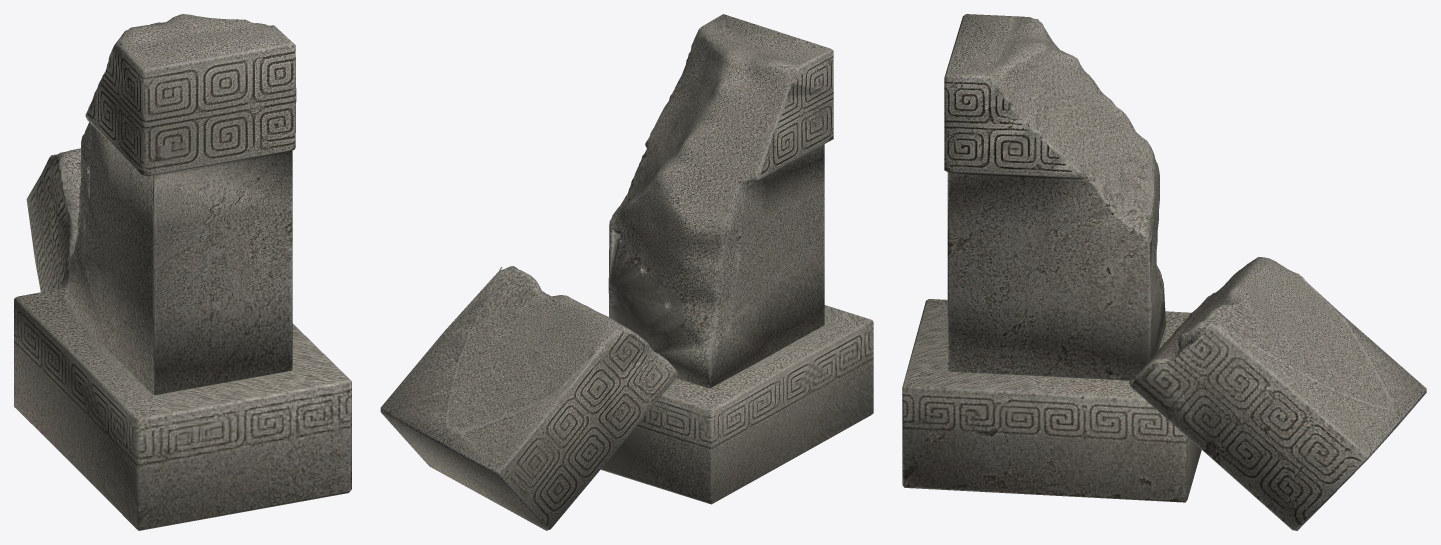
The model's file is tripo_convert_f8e50aa0-b2bb-4e50-8fea-d4e53c92ec6d.fbx.
3 views of the same model, side by side, from view 1: azimuth 30°, elevation 25°; view 2: azimuth 150°, elevation 25°; view 3: azimuth 270°, elevation 25° (orthographic). The views are drawn at different scales.
Visible parts, largest first — view 1: tripo_node_f8e50aa0; view 2: tripo_node_f8e50aa0; view 3: tripo_node_f8e50aa0.
Boxes of the visible parts, x1,y1,x2,y2 form: tripo_node_f8e50aa0: (14,14,351,530); tripo_node_f8e50aa0: (380,14,873,530); tripo_node_f8e50aa0: (902,14,1426,530).
Size of the model in its own units: 0.6777 by 0.8496 by 0.998.
1 material, 1 textured.
